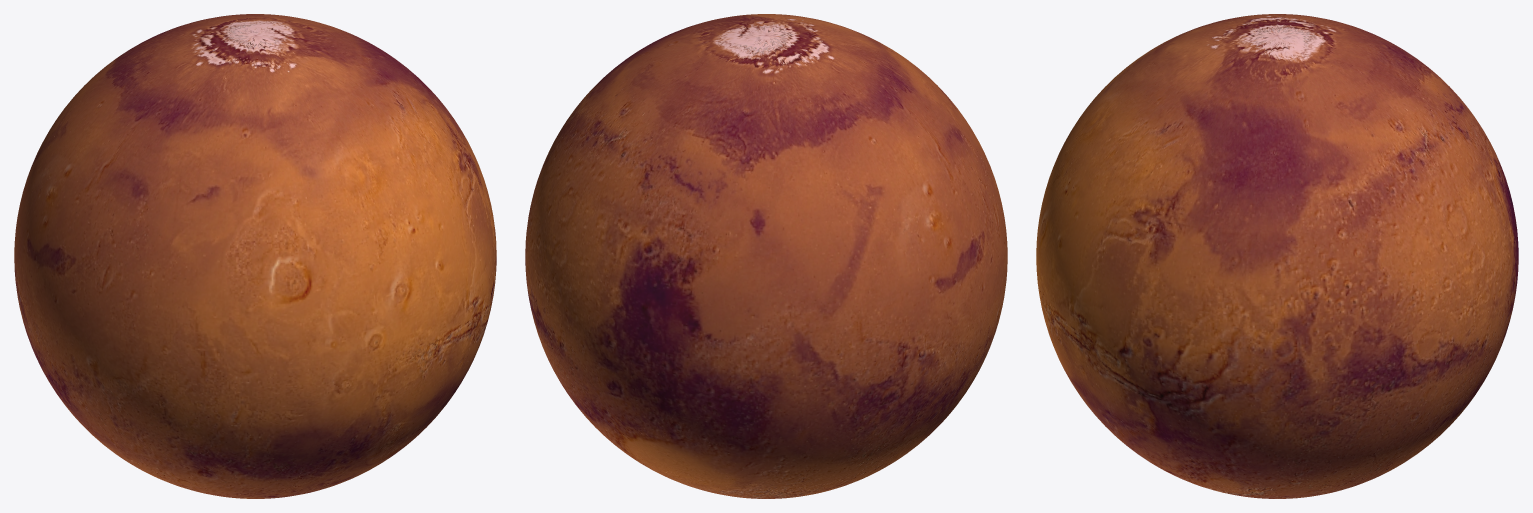
File: mars.fbx
The picture shows the model from 3 angles, left to right: view 1: azimuth 30°, elevation 25°; view 2: azimuth 150°, elevation 25°; view 3: azimuth 270°, elevation 25°; orthographic projection.
Parts seen in each view (by area): view 1: mars; view 2: mars; view 3: mars.
Boxes of the visible parts, x1,y1,x2,y2 form: mars: (14,14,496,498); mars: (525,14,1007,498); mars: (1036,14,1518,498).
Bounding box in the file's own units: 67.81 × 68.53 × 67.81.
Materials: 1 (1 with a texture image).
